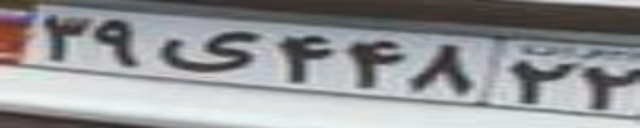2: (582, 64, 639, 112), (508, 61, 568, 105)
3: (42, 14, 88, 64)
4: (345, 39, 404, 87), (281, 34, 332, 84)
8: (409, 43, 476, 96)
9: (93, 18, 138, 69)
ye: (156, 27, 261, 72)
